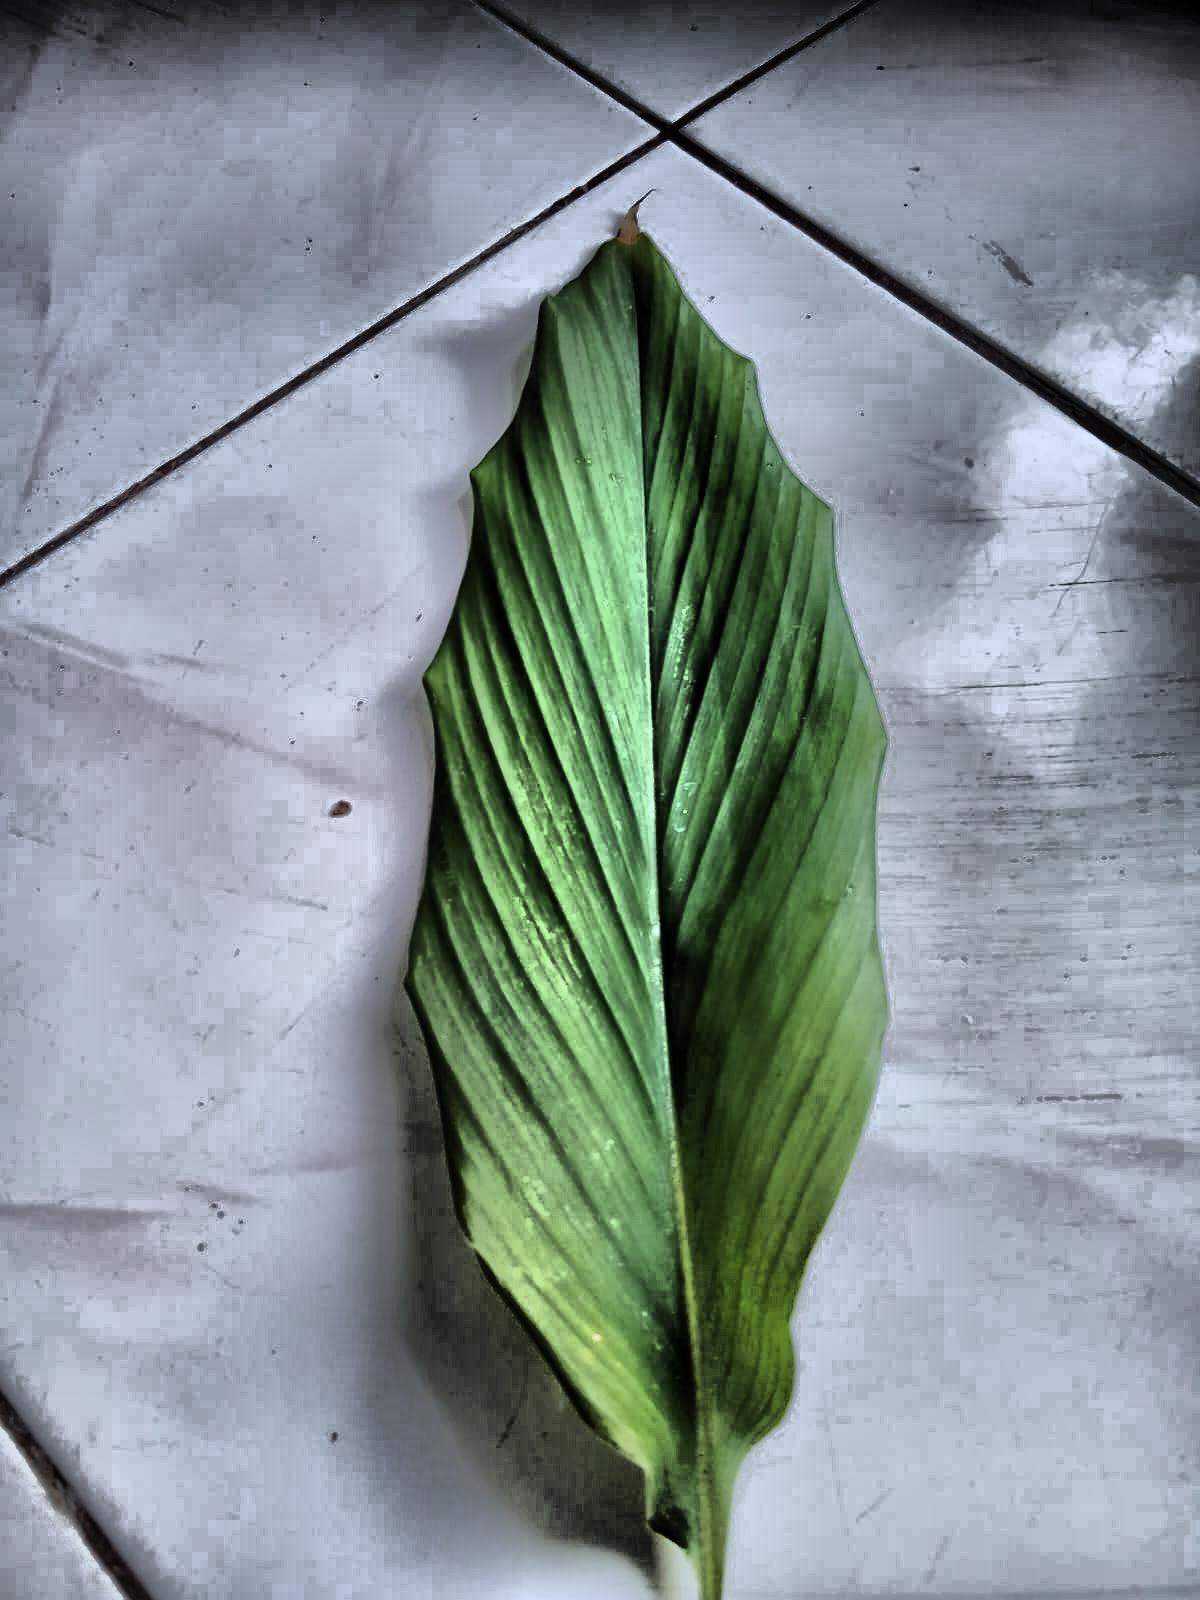daun kunyit: (406, 210, 886, 1599)
